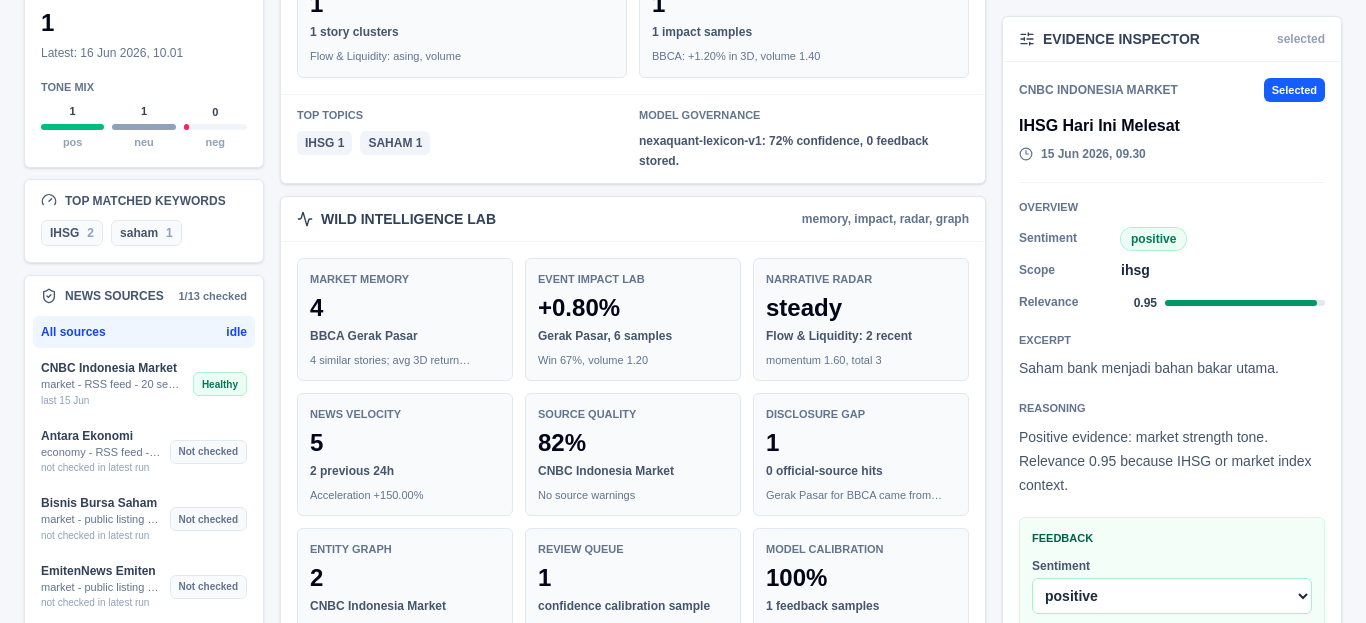
Test: NewsDashboard › drills into source run and quality details from the source health matrix
(page scrolled)
Click the button with aria-label "Filter source CNBC Indonesia Market".
click(144, 384)  # box [33, 352, 255, 416]
(page scrolled)
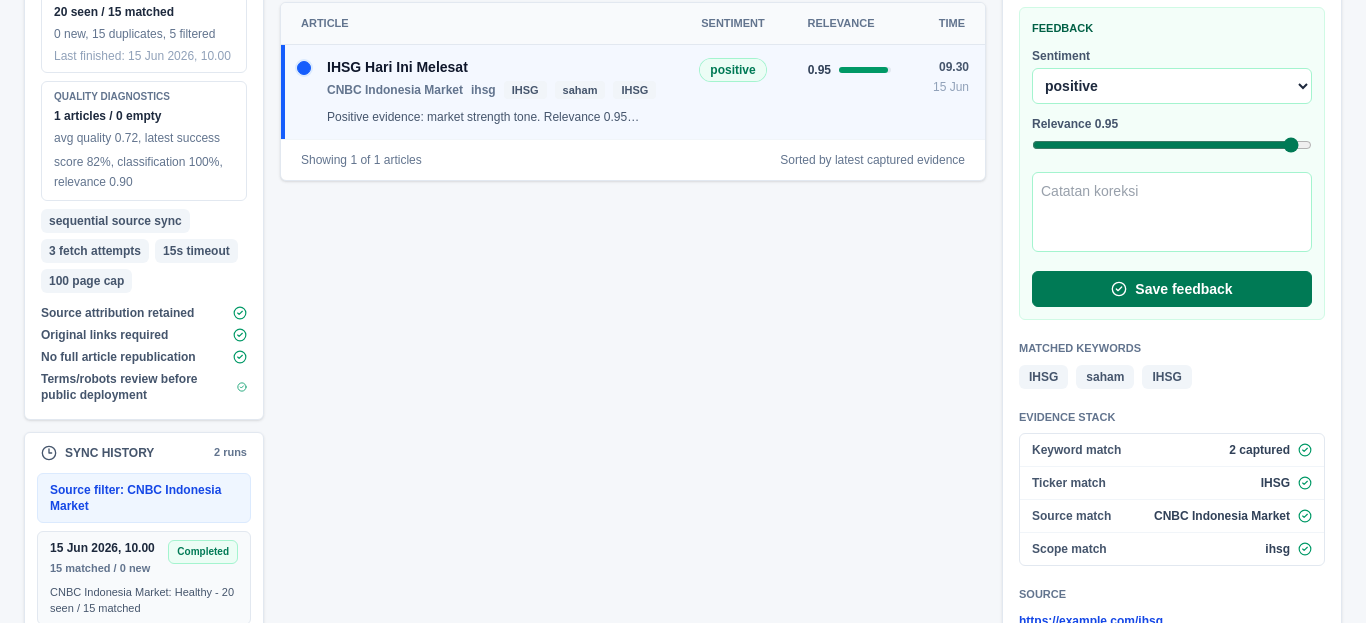
Check: the text "0 new, 15 duplicates, 5 filtered" is shown, box [54, 24, 234, 44]
Check: the text "Quality diagnostics" is shown, box [54, 92, 170, 102]
Check: the text "1 articles / 0 empty" is shown, box [54, 109, 161, 123]
